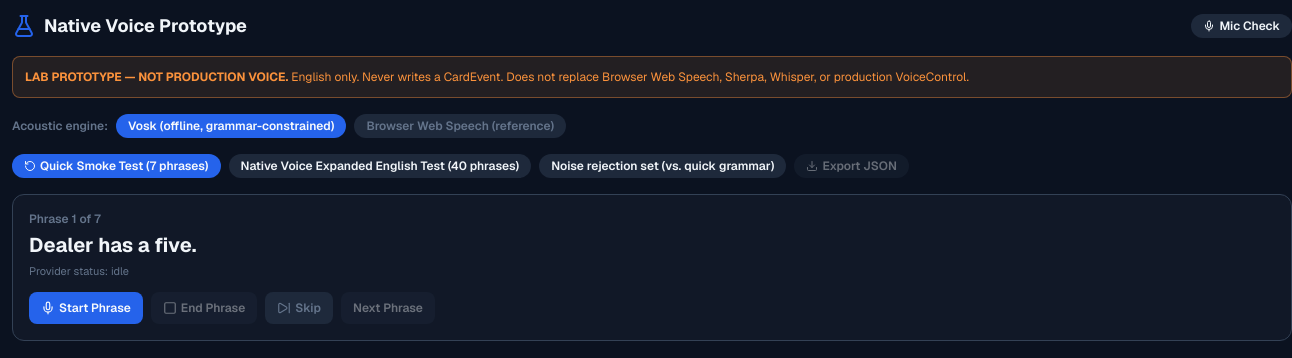
Scenario: Native Voice Prototype Lab page › Native Voice Expanded English Test switches to the v0.2 grammar, showing a category badge and a bounded phrase count
Click the button "Native Voice Expanded English Test (40 phrases)": (380, 166) [228,154,531,178]
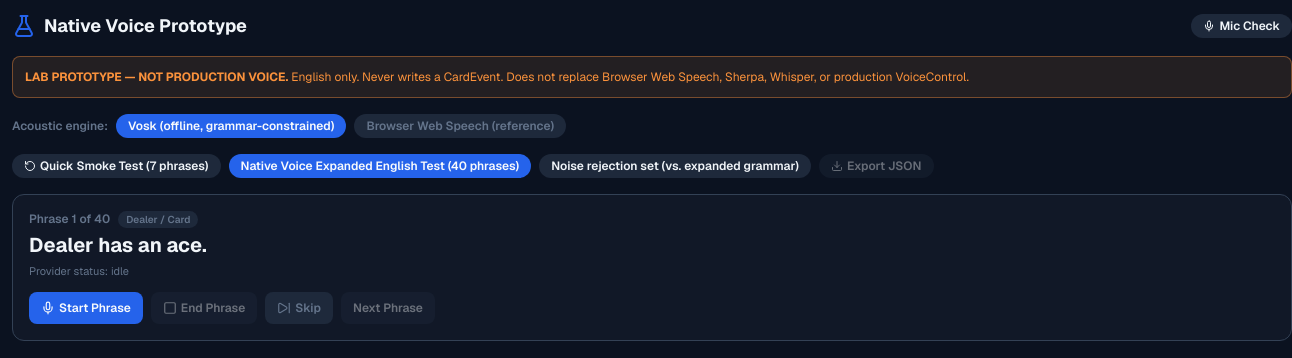
Expected: the text "Phrase 1 of 40Dealer / Card" is shown, [29,211,198,228]
Expected: the text with test id "expected-phrase" reads "Dealer has an ace.", [29,232,207,258]
Expected: the text "Dealer / Card" is shown, [118,211,198,228]
